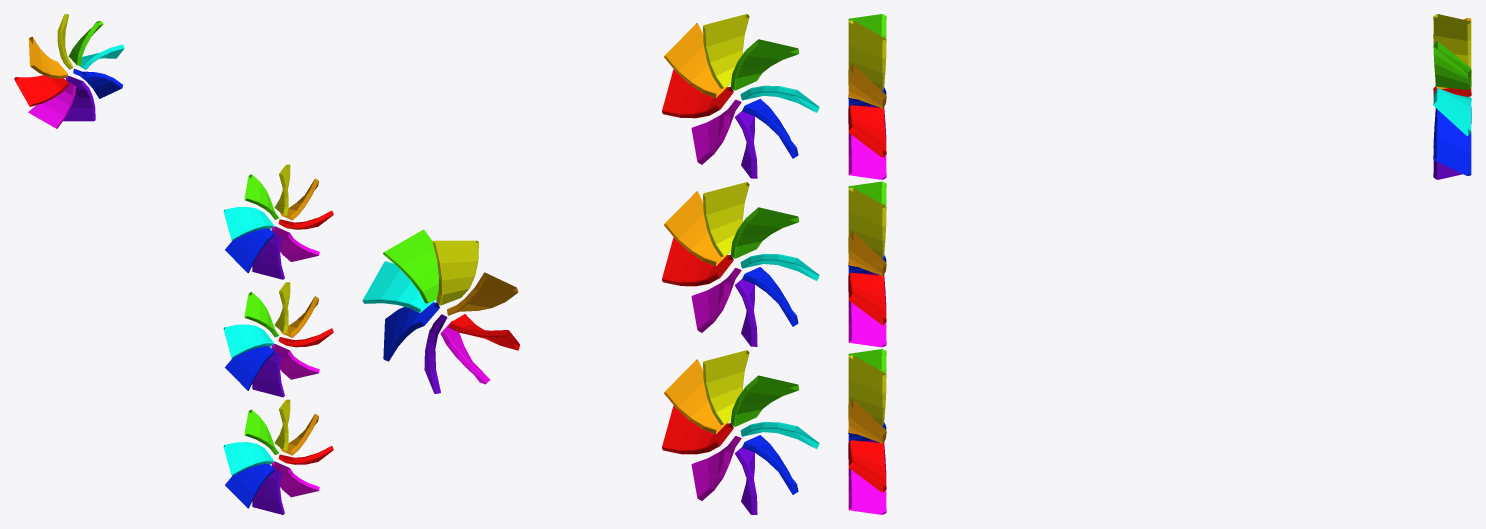
The model's file is PC_Case_Fans.fbx.
3 views of the same model, side by side, from view 1: azimuth 30°, elevation 25°; view 2: azimuth 150°, elevation 25°; view 3: azimuth 270°, elevation 25° (orthographic). The views are drawn at different scales.
Visible parts, largest first — view 1: Fan.008, Fan.006, Fan.007, Fan.005; view 2: Fan.008, Fan.006, Fan.007, Fan.005; view 3: Fan.005, Fan.007, Fan.006, Fan.008.
Part boxes in pixels (x1,y1,x2,y2): Fan.008: [14, 14, 124, 128]; Fan.006: [223, 282, 333, 397]; Fan.007: [223, 399, 333, 514]; Fan.005: [223, 164, 333, 279]; Fan.008: [362, 229, 519, 393]; Fan.006: [662, 182, 819, 346]; Fan.007: [662, 350, 819, 514]; Fan.005: [662, 14, 819, 178]; Fan.005: [848, 14, 886, 179]; Fan.007: [848, 349, 886, 514]; Fan.006: [848, 181, 886, 347]; Fan.008: [1433, 14, 1471, 179].
Bounding box in the file's own units: 23.98 × 77.31 × 89.9.
